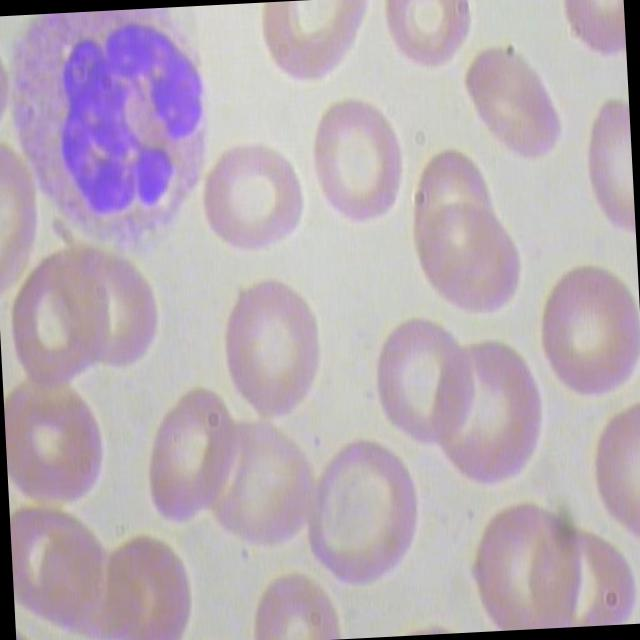RBC: (297, 431, 427, 597), (425, 332, 547, 494), (464, 493, 590, 632), (454, 37, 571, 183), (208, 280, 325, 426), (212, 416, 328, 562), (526, 259, 640, 405), (366, 314, 477, 454), (3, 376, 110, 520), (301, 102, 417, 228), (6, 255, 112, 391), (410, 206, 530, 326), (406, 150, 498, 304), (142, 391, 239, 536), (198, 136, 306, 260)
WBC: (0, 6, 231, 269)
